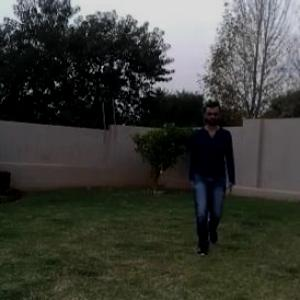follow: (186, 106, 232, 250)
